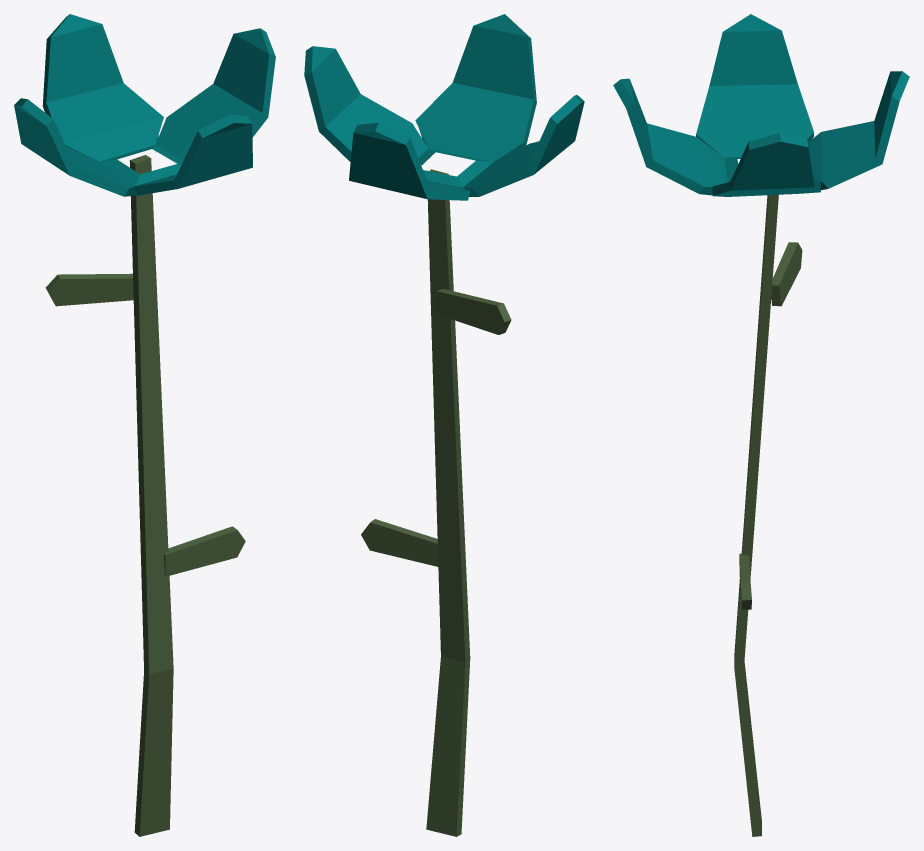
File: flowers.glb
The picture shows the model from 3 angles, left to right: view 1: azimuth 30°, elevation 25°; view 2: azimuth 150°, elevation 25°; view 3: azimuth 270°, elevation 25°; orthographic projection.
Parts seen in each view (by area): view 1: Flower_4; view 2: Flower_4; view 3: Flower_4.
Boxes of the visible parts, <box> form: Flower_4: <box>14,14,275,836</box>; Flower_4: <box>304,14,584,836</box>; Flower_4: <box>613,14,909,836</box>.
Bounding box in the file's own units: 0.2918 × 0.8209 × 0.2926.
